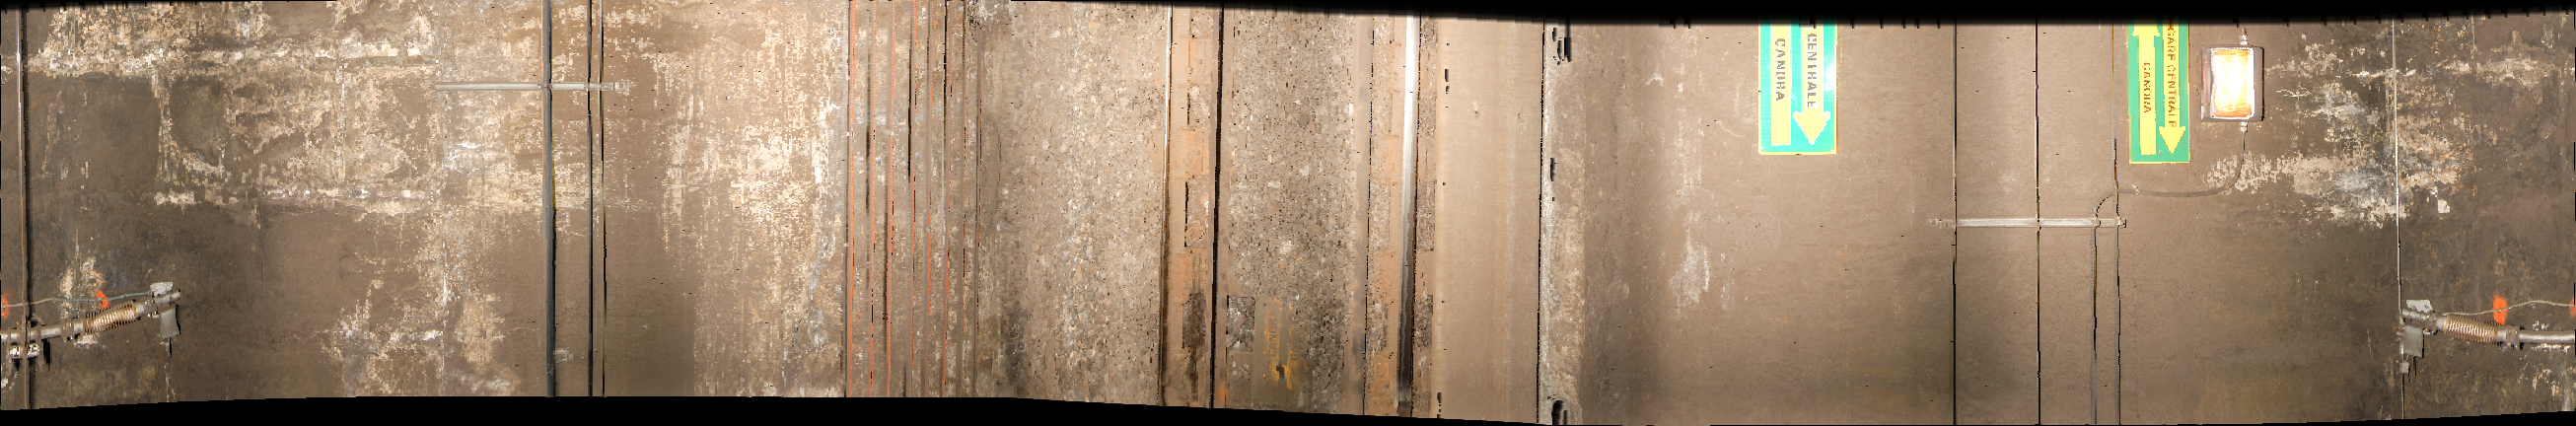light: (2201, 44, 2265, 130)
pipes: (838, 7, 994, 426), (537, 7, 616, 424), (7, 276, 197, 352), (12, 5, 43, 426), (2384, 16, 2413, 426), (2027, 21, 2057, 426), (1935, 202, 2137, 243), (1948, 31, 1968, 426)
sign: (1758, 25, 1840, 158), (2131, 21, 2195, 164)
tracks: (1163, 5, 1533, 426)
